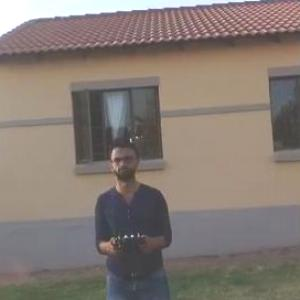follow: (90, 131, 178, 299)
